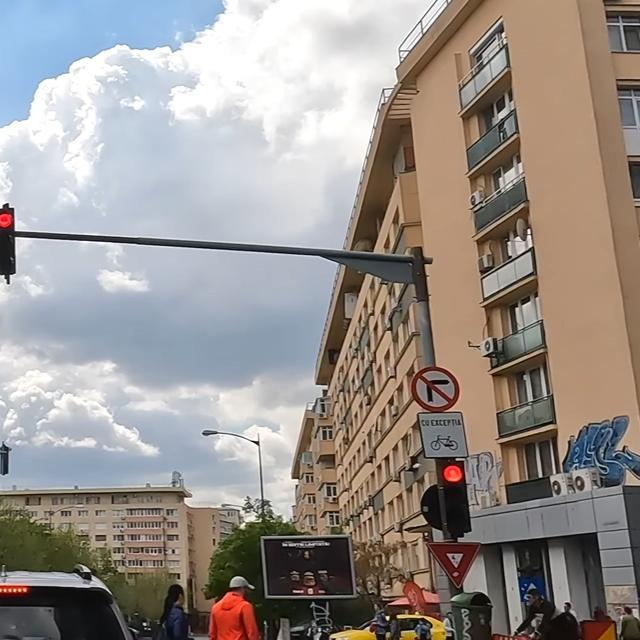prio_give_way: (426, 541, 482, 589)
